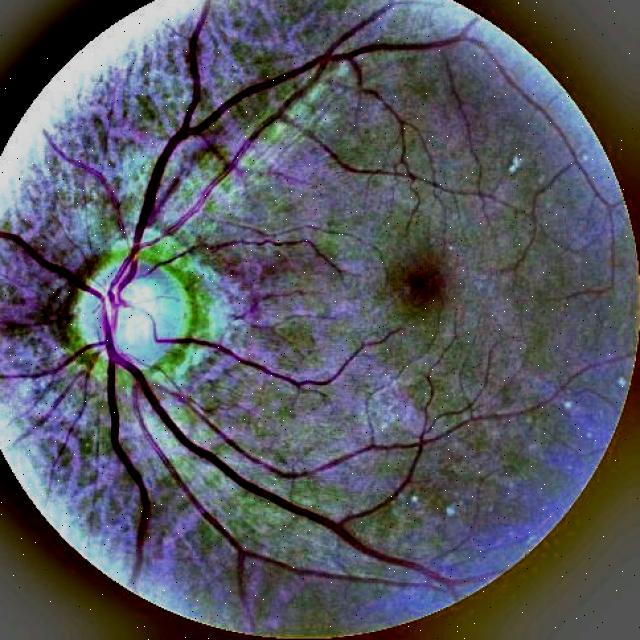Macula: (409, 275, 442, 303)
Optic Disk: (72, 246, 197, 381)
